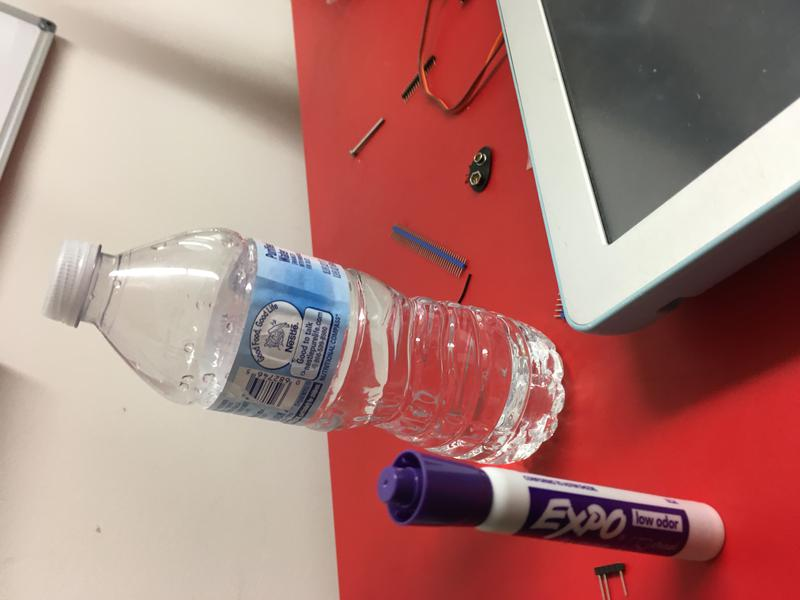bottle: (42, 227, 567, 465)
